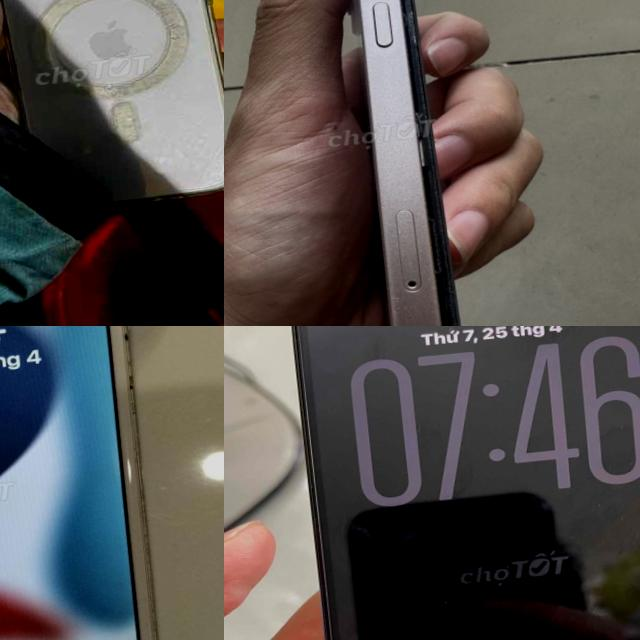gen_12_13: (305, 0, 521, 326)
gen_15: (253, 326, 640, 640)
gen_17: (0, 0, 224, 233)
gen_6: (0, 326, 186, 640)
scratch: (116, 394, 175, 640)
